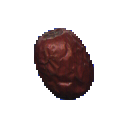gd: (17, 18, 114, 113)
